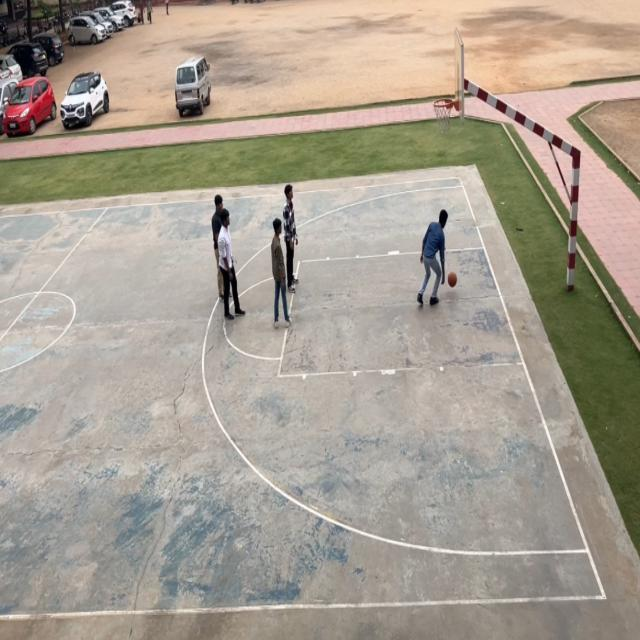basketball: (446, 269, 460, 291)
hoop: (433, 96, 453, 136)
